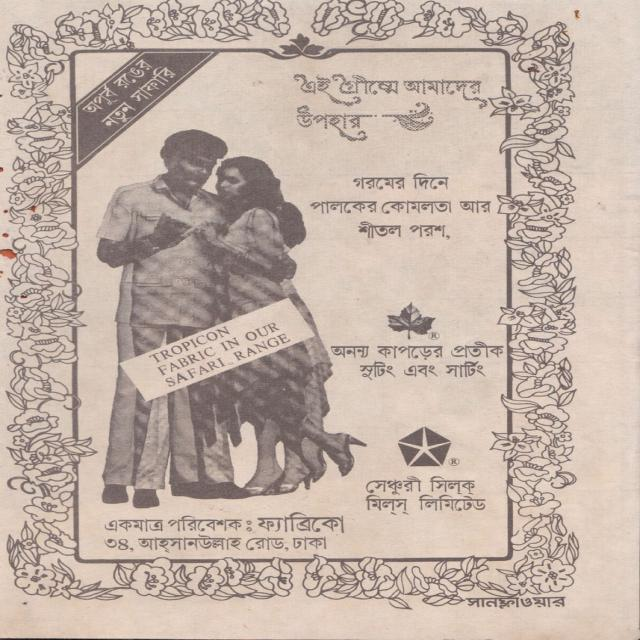advertisement: (5, 3, 579, 610)
